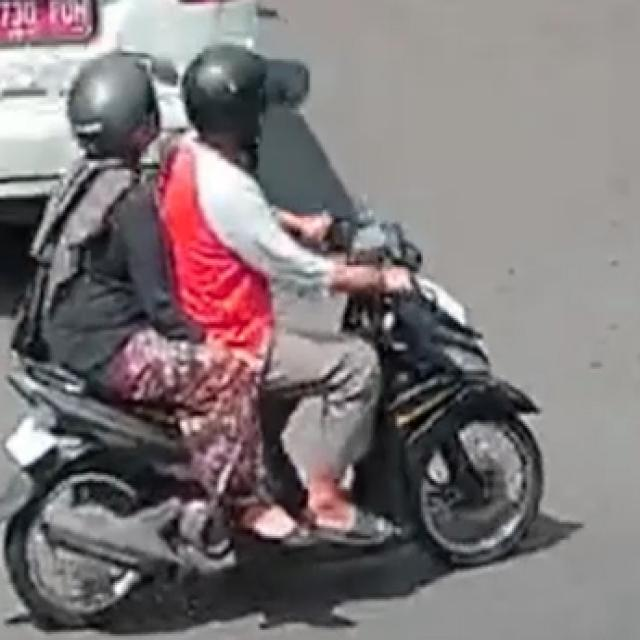helm: (53, 37, 172, 174), (177, 33, 288, 150)
motor: (4, 36, 543, 633)
